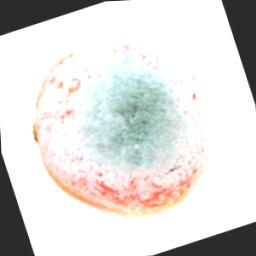Orange Rotten: (6, 22, 248, 232)
